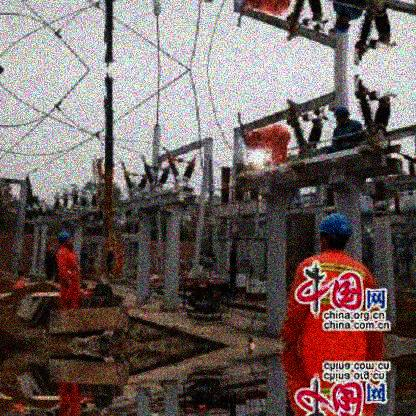helmet: (317, 212, 354, 250), (334, 106, 349, 126), (334, 16, 350, 33), (59, 232, 73, 248), (49, 246, 54, 253)
